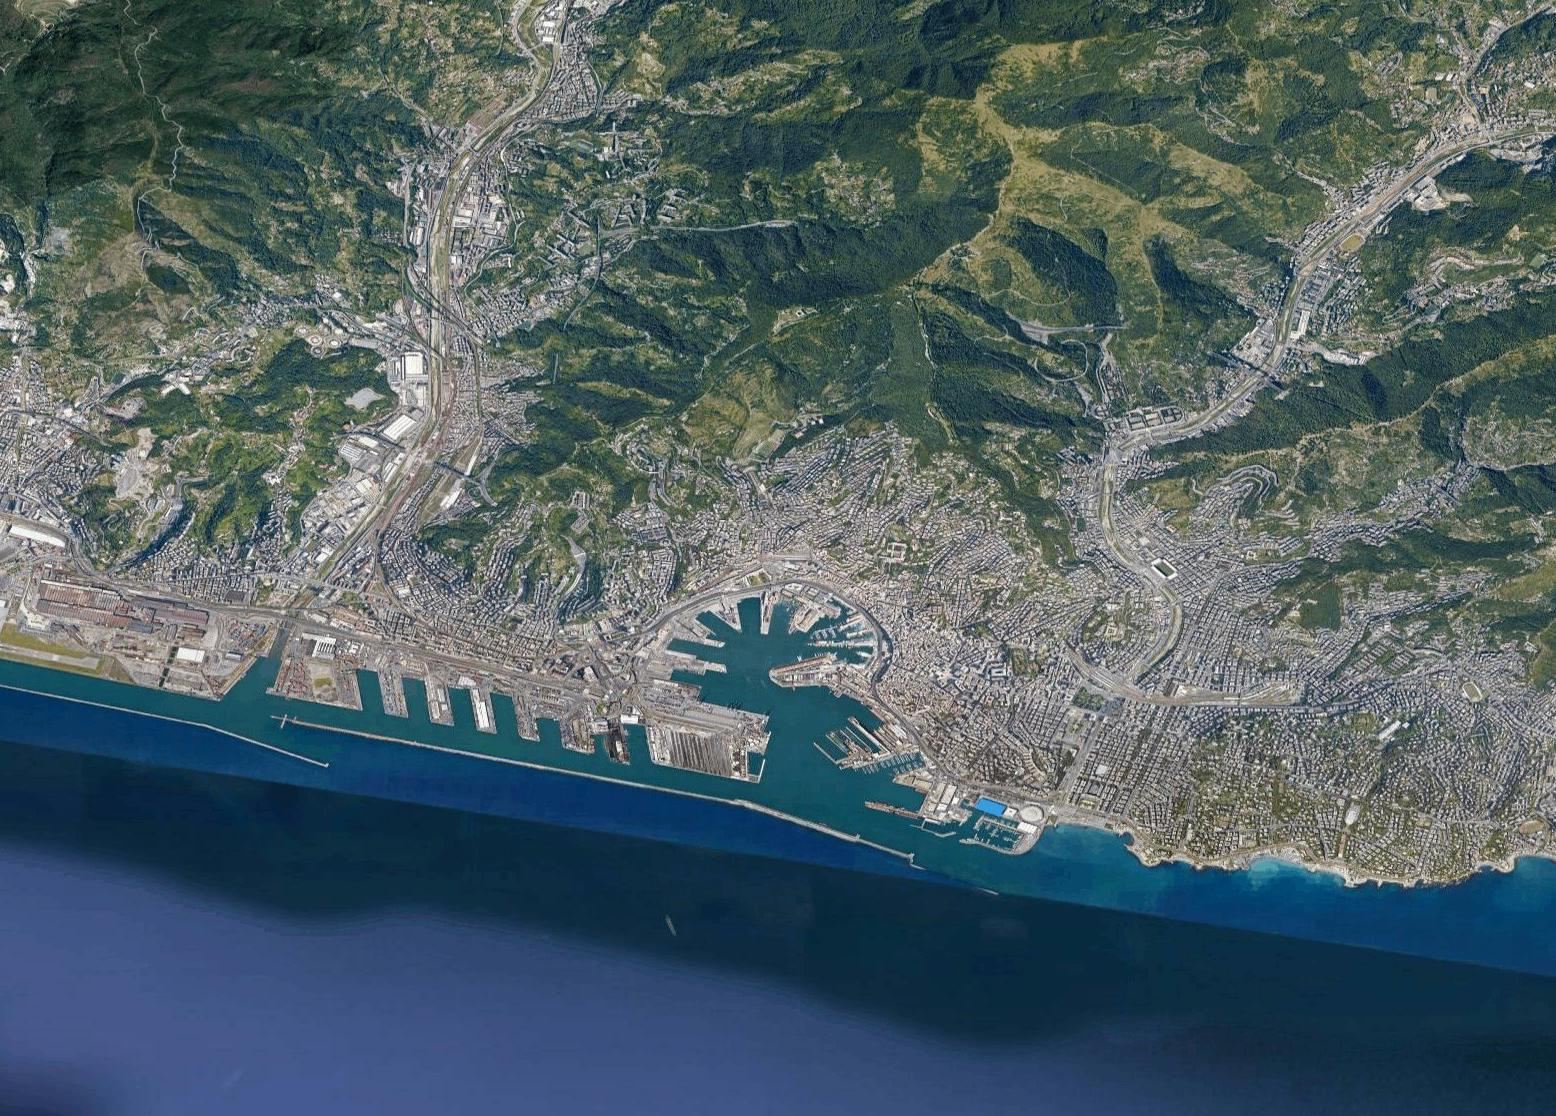harbor: (309, 570, 1050, 878)
